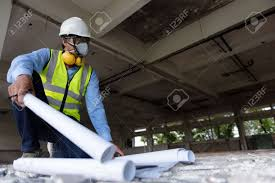Helmet: (59, 17, 97, 38)
Mask: (75, 42, 93, 53)
d: (39, 49, 88, 116)
